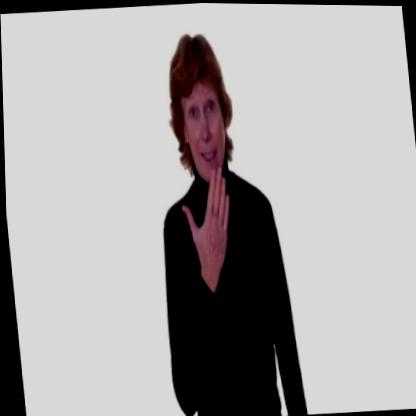ThankYou: (141, 24, 306, 416)
